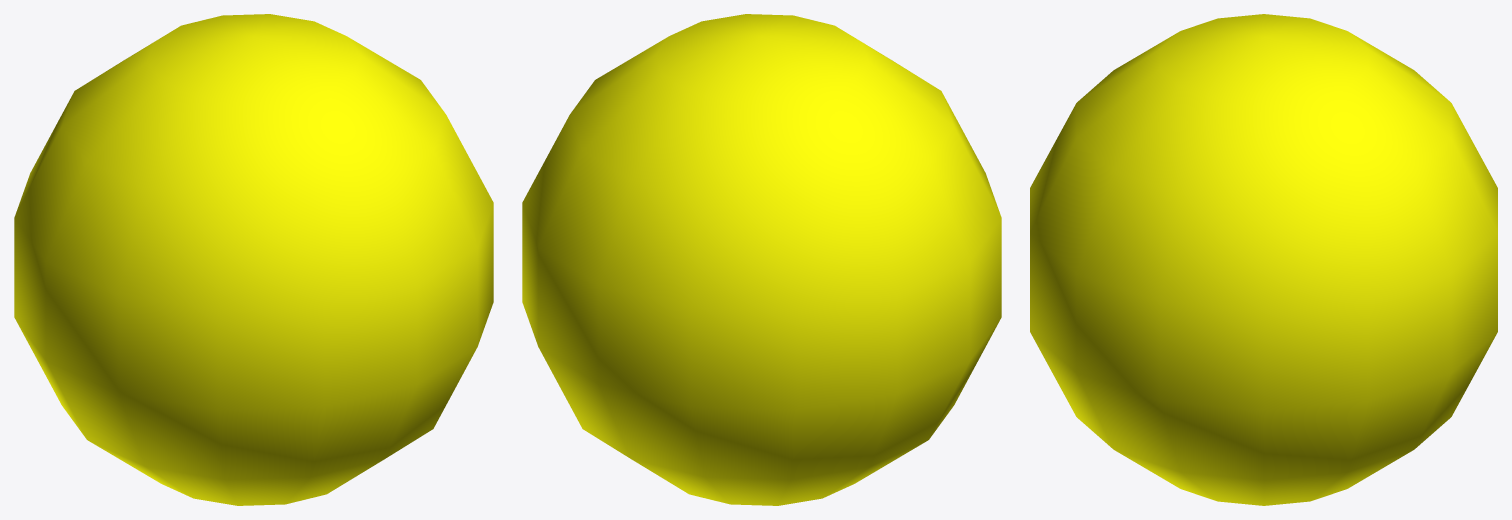
File: ball.dae
3 renders of one model, left to right at view 1: azimuth 30°, elevation 25°; view 2: azimuth 150°, elevation 25°; view 3: azimuth 270°, elevation 25°, orthographic.
Parts seen in each view (by area): view 1: ball; view 2: ball; view 3: ball.
Part boxes in pixels (left/top/right/bottom): ball: left=14, top=14, right=493, bottom=505; ball: left=522, top=14, right=1001, bottom=505; ball: left=1030, top=14, right=1497, bottom=505.
Size of the model in its own units: 0.039 by 0.038 by 0.04.
